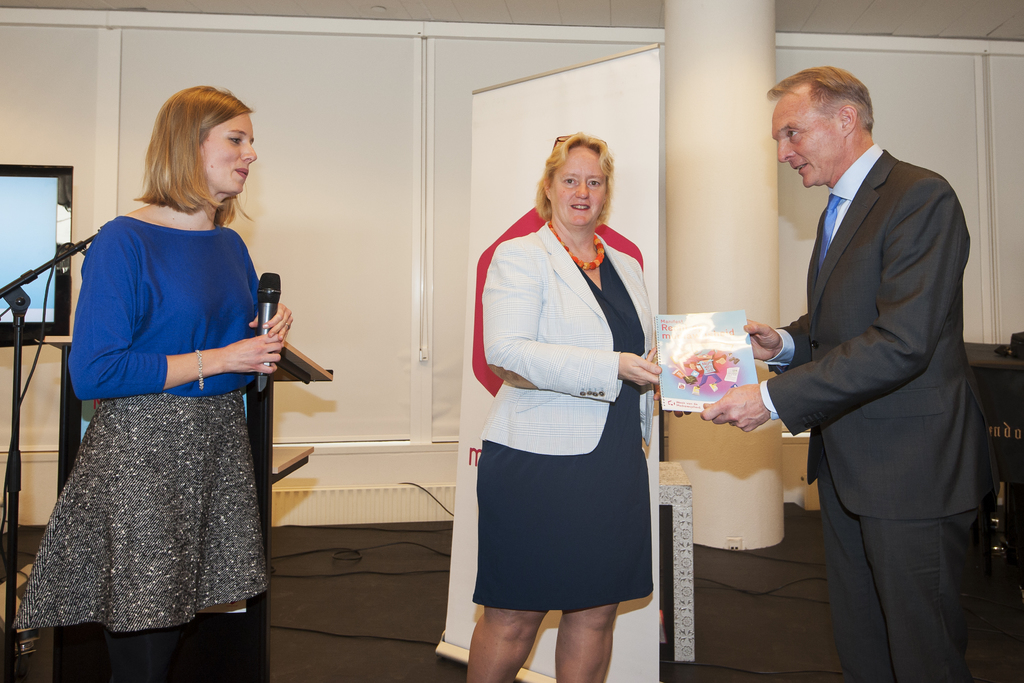Human_hand: (211, 308, 294, 383), (698, 381, 774, 434), (246, 303, 298, 344), (618, 347, 664, 389), (741, 317, 783, 361), (653, 391, 696, 418)
